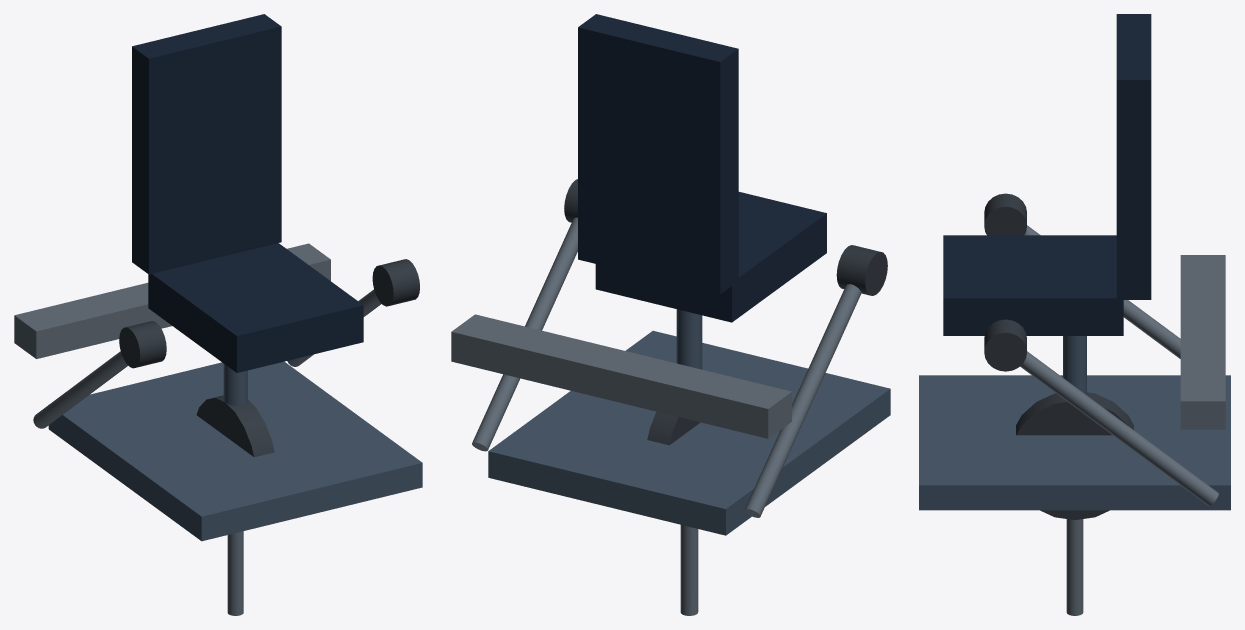
The model's file is plate_machine_row.glb.
3 views of the same model, side by side, from view 1: azimuth 30°, elevation 25°; view 2: azimuth 150°, elevation 25°; view 3: azimuth 270°, elevation 25° (orthographic). The views are drawn at different scales.
Parts seen in each view (by area): view 1: base, back, seat, pivotBridge, LweightPlate, Lsupport, Lpivot, Rpivot, Llink, post; view 2: back, base, pivotBridge, seat, Lsupport, Rsupport, Lpivot, Llink, post, LweightPlate; view 3: base, seat, back, pivotBridge, Rsupport, LweightPlate, Rpivot, Llink, Lpivot, Lsupport, post.
Boxes of the visible parts, x1,y1,x2,y2 form: base: (48,361,422,541); back: (132,14,281,274); seat: (148,243,363,372); pivotBridge: (14,243,330,358); LweightPlate: (196,395,274,457); Lsupport: (33,351,128,428); Lpivot: (119,321,166,368); Rpivot: (372,259,419,306); Llink: (227,531,243,615); post: (223,364,247,406); back: (578,14,738,294); base: (488,330,890,535); pivotBridge: (451,314,791,438); seat: (595,192,826,322); Lsupport: (744,284,861,517); Rsupport: (472,217,577,451); Lpivot: (836,245,887,295); Llink: (680,525,698,615); post: (676,309,702,369); LweightPlate: (647,411,700,445); base: (919,375,1230,510); seat: (943,235,1123,335); back: (1116,14,1151,299); pivotBridge: (1180,255,1225,429); Rsupport: (1020,351,1218,506); LweightPlate: (1016,392,1133,519); Rpivot: (984,319,1026,371); Llink: (1066,519,1083,615); Lpivot: (984,193,1026,235); Lsupport: (1024,225,1180,358); post: (1063,336,1086,399).
Bounding box in the file's own units: 1 × 1.8 × 0.9.
